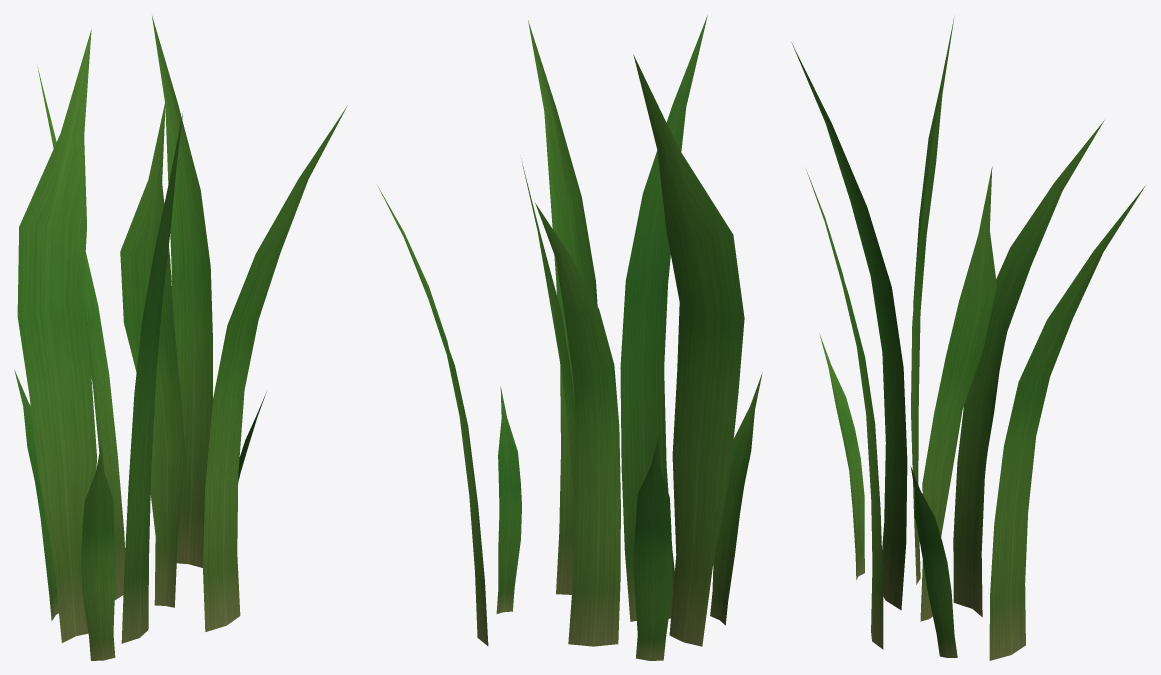
Rendered from Grass_Common_Short.gltf.
3 views of the same model, side by side, from view 1: azimuth 30°, elevation 25°; view 2: azimuth 150°, elevation 25°; view 3: azimuth 270°, elevation 25° (orthographic). The views are drawn at different scales.
Parts seen in each view (by area): view 1: Grass_Common_Short; view 2: Grass_Common_Short; view 3: Grass_Common_Short.
Boxes of the visible parts, x1,y1,x2,y2 form: Grass_Common_Short: (14,16,346,660); Grass_Common_Short: (378,15,762,660); Grass_Common_Short: (791,17,1145,660).
Size of the model in its own units: 0.6441 by 1.33 by 0.7373.
1 material, 1 textured.
